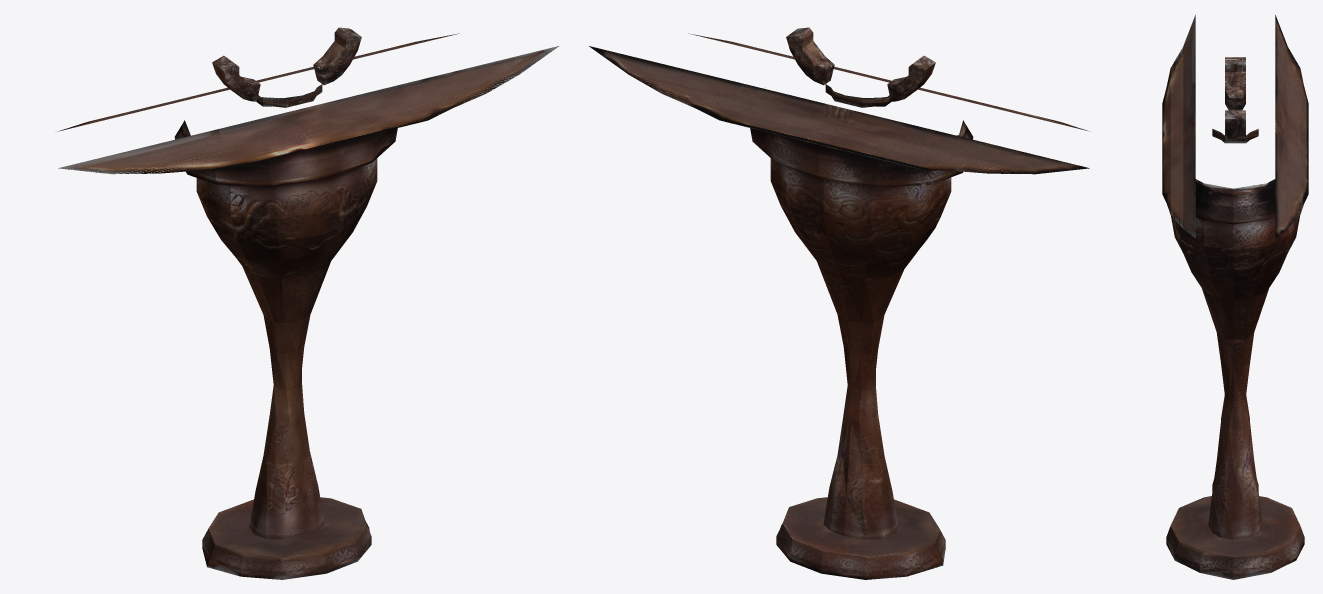
The picture shows the model from 3 angles, left to right: view 1: azimuth 30°, elevation 25°; view 2: azimuth 150°, elevation 25°; view 3: azimuth 270°, elevation 25°; orthographic projection. The views are drawn at different scales.
Visible parts, largest first — view 1: textured.obj; view 2: textured.obj; view 3: textured.obj.
Boxes of the visible parts, <box> form: textured.obj: <box>58,27,558,579</box>; textured.obj: <box>589,27,1089,579</box>; textured.obj: <box>1162,15,1308,579</box>.
Bounding box in the file's own units: 2 × 1.91 × 0.5512.
Materials: 1 (1 with a texture image).
